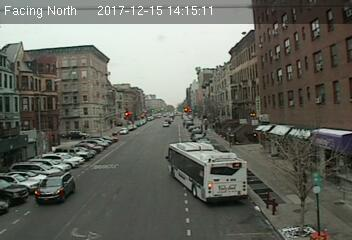bus: (167, 141, 248, 206)
car: (35, 172, 77, 205)
